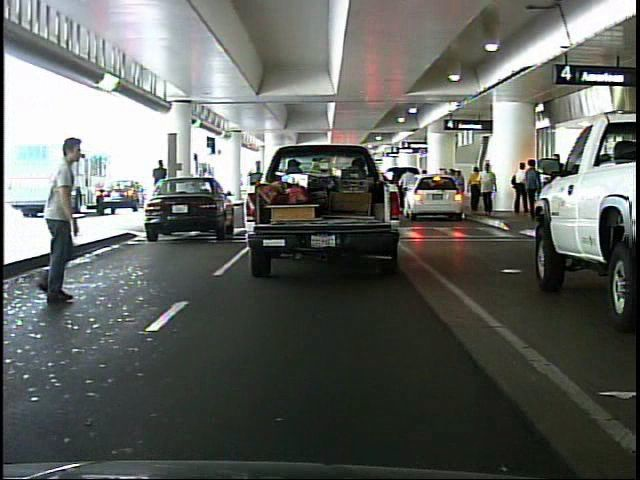person: (23, 131, 109, 319), (471, 156, 496, 220), (148, 156, 172, 216), (512, 156, 533, 217), (465, 160, 484, 220)
